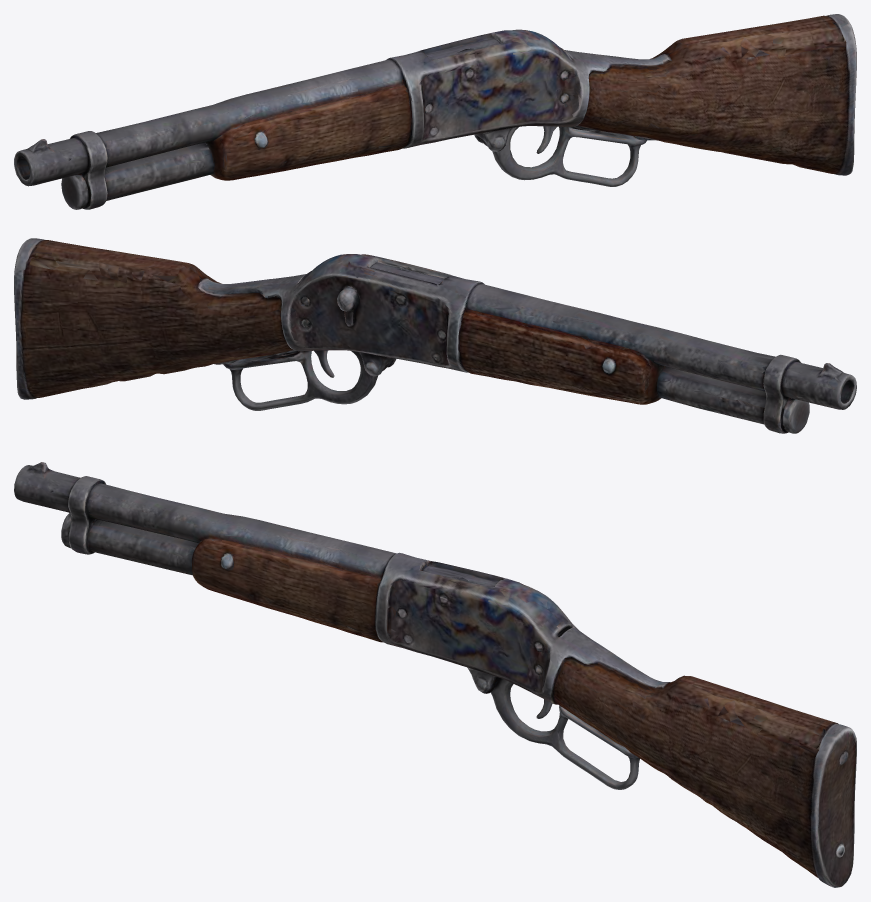
The model's file is coach_shotgun.glb.
The picture shows the model from 3 angles, top to bottom: view 1: azimuth 30°, elevation 25°; view 2: azimuth 150°, elevation 25°; view 3: azimuth 330°, elevation 25°; orthographic projection.
Visible parts, largest first — view 1: tripo_node_84d152c5; view 2: tripo_node_84d152c5; view 3: tripo_node_84d152c5.
Part boxes in pixels (x1,y1,x2,y2): tripo_node_84d152c5: (14, 14, 856, 209); tripo_node_84d152c5: (14, 238, 856, 433); tripo_node_84d152c5: (14, 462, 856, 887).
Bounding box in the file's own units: 1.13 × 0.3 × 0.0976.
1 material, 1 textured.
